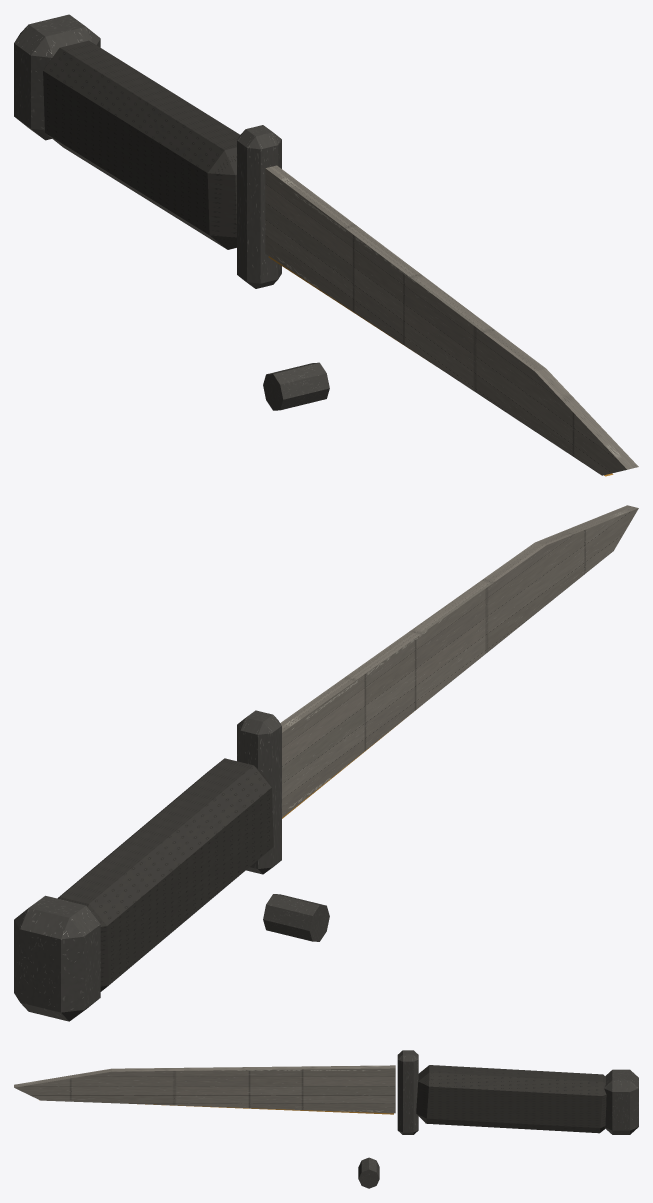
File: np_knife.obj
3 views of the same model, one above another, from view 1: azimuth 30°, elevation 25°; view 2: azimuth 150°, elevation 25°; view 3: azimuth 270°, elevation 25° (orthographic). The views are drawn at different scales.
Visible parts, largest first — view 1: np_knife; view 2: np_knife; view 3: np_knife.
Boxes of the visible parts, x1=… form: np_knife: x1=14, y1=14, x2=638, y2=476; np_knife: x1=14, y1=505, x2=638, y2=1021; np_knife: x1=14, y1=1050, x2=638, y2=1188.
Bounding box in the file's own units: 0.024 × 0.081 × 0.352.
1 material, 1 textured.
